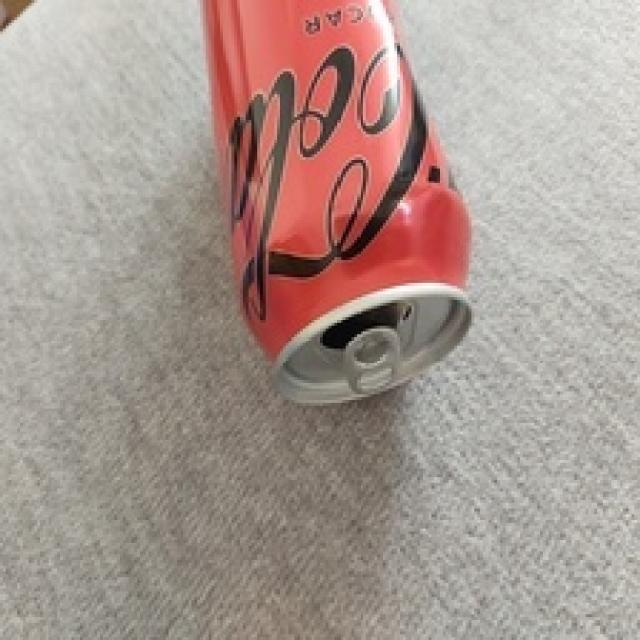recyclable: (200, 0, 475, 403)
